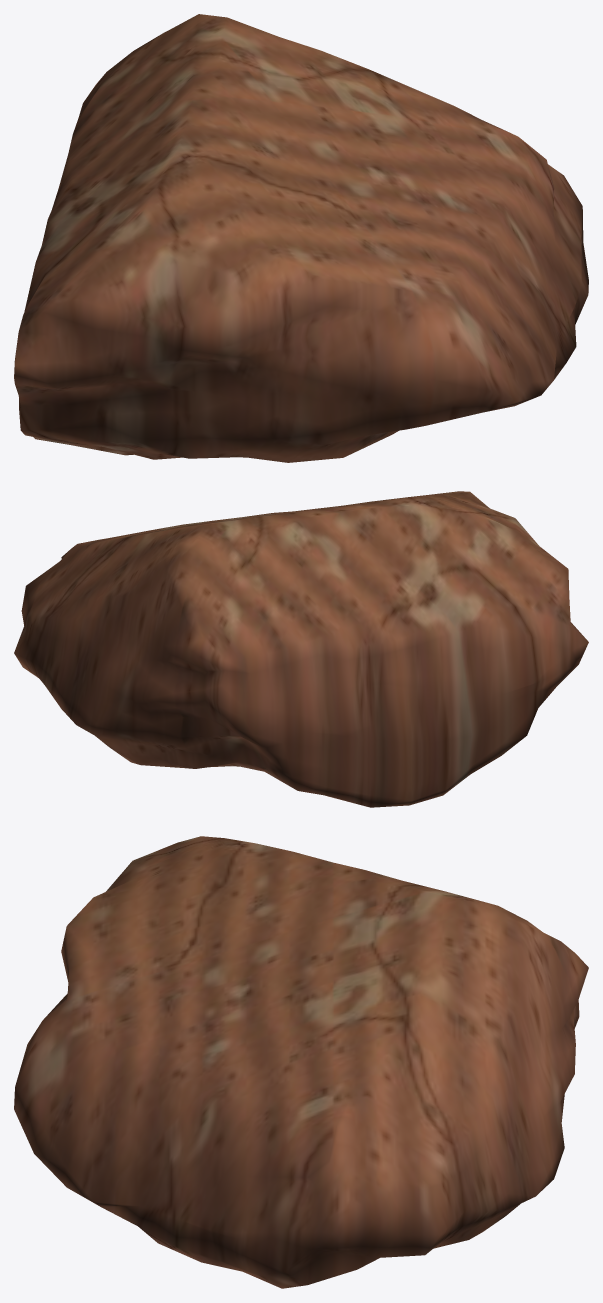
The model's file is rock-redstone-2.lite.glb.
3 renders of one model, top to bottom at view 1: azimuth 30°, elevation 25°; view 2: azimuth 150°, elevation 25°; view 3: azimuth 270°, elevation 25°, orthographic. The views are drawn at different scales.
Visible parts, largest first — view 1: model; view 2: model; view 3: model.
Part boxes in pixels (x1=…): model: x1=14, y1=14, x2=588, y2=462; model: x1=14, y1=491, x2=588, y2=807; model: x1=14, y1=836, x2=588, y2=1288.
Bounding box in the file's own units: 1 × 0.502 × 0.8256.
Materials: 1 (1 with a texture image).
